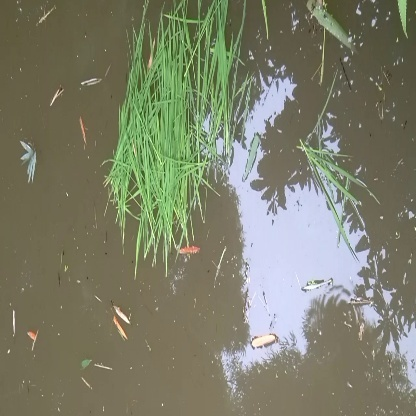grass: (109, 3, 244, 259)
